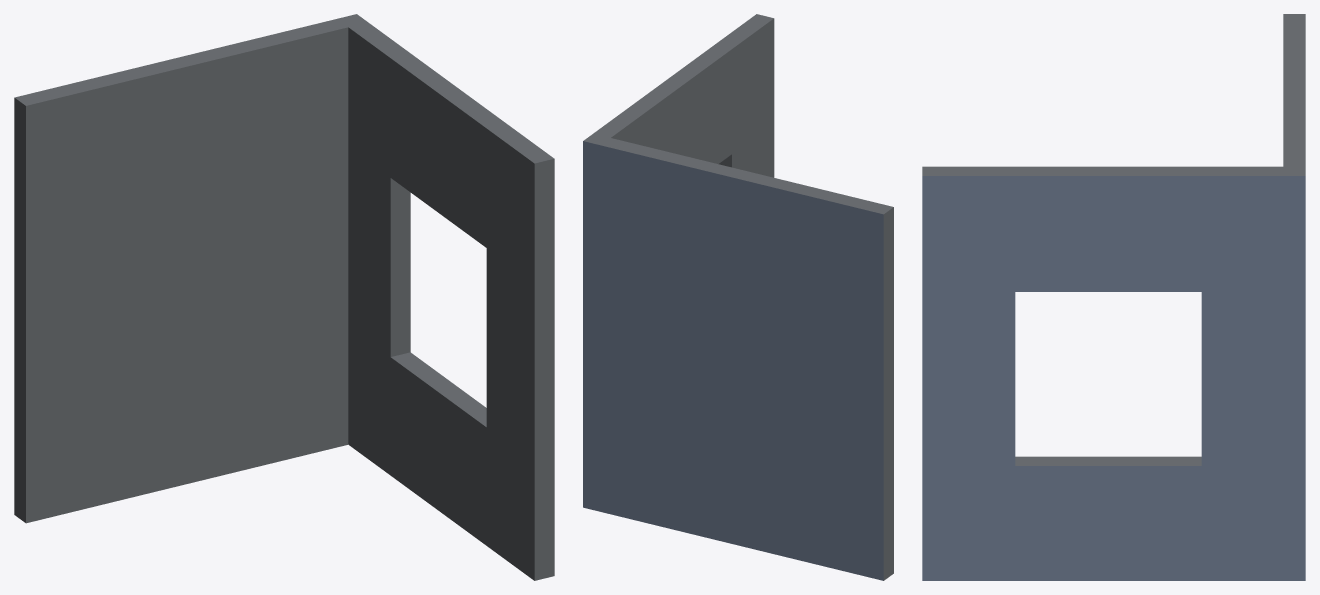
Rendered from Wall3_C4_11.fbx.
3 views of the same model, side by side, from view 1: azimuth 30°, elevation 25°; view 2: azimuth 150°, elevation 25°; view 3: azimuth 270°, elevation 25° (orthographic). The views are drawn at different scales.
Visible parts, largest first — view 1: Wall3_C4_11; view 2: Wall3_C4_11; view 3: Wall3_C4_11.
Part boxes in pixels (bbox=[...]): Wall3_C4_11: bbox=[14, 14, 554, 580]; Wall3_C4_11: bbox=[583, 14, 893, 580]; Wall3_C4_11: bbox=[922, 14, 1305, 580].
Bounding box in the file's own units: 258 × 300 × 258.
